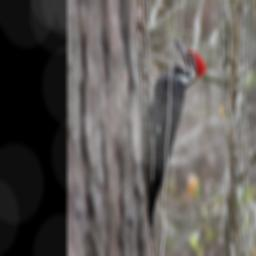Woodpecker: (138, 40, 209, 235)
